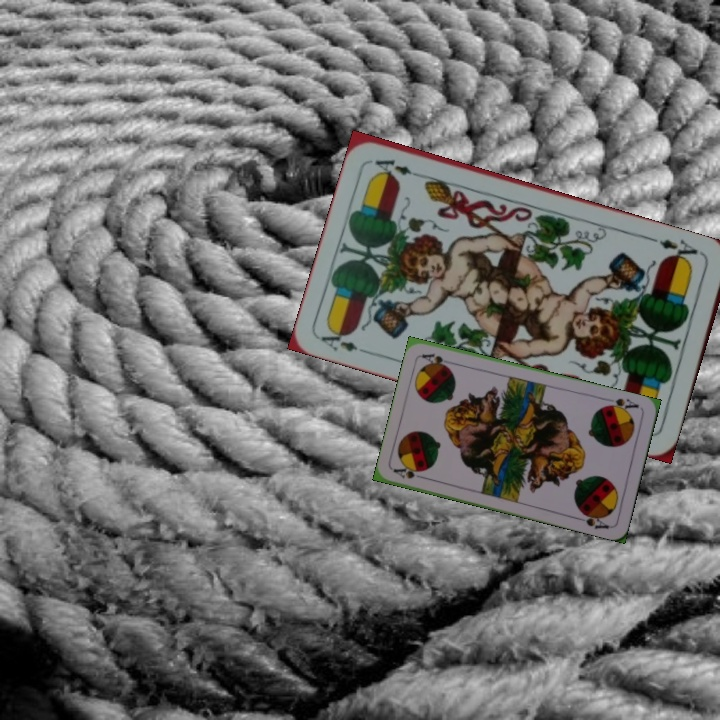EA: (648, 234, 707, 267), (317, 324, 374, 357)
SA: (601, 394, 641, 415), (390, 463, 430, 482)
